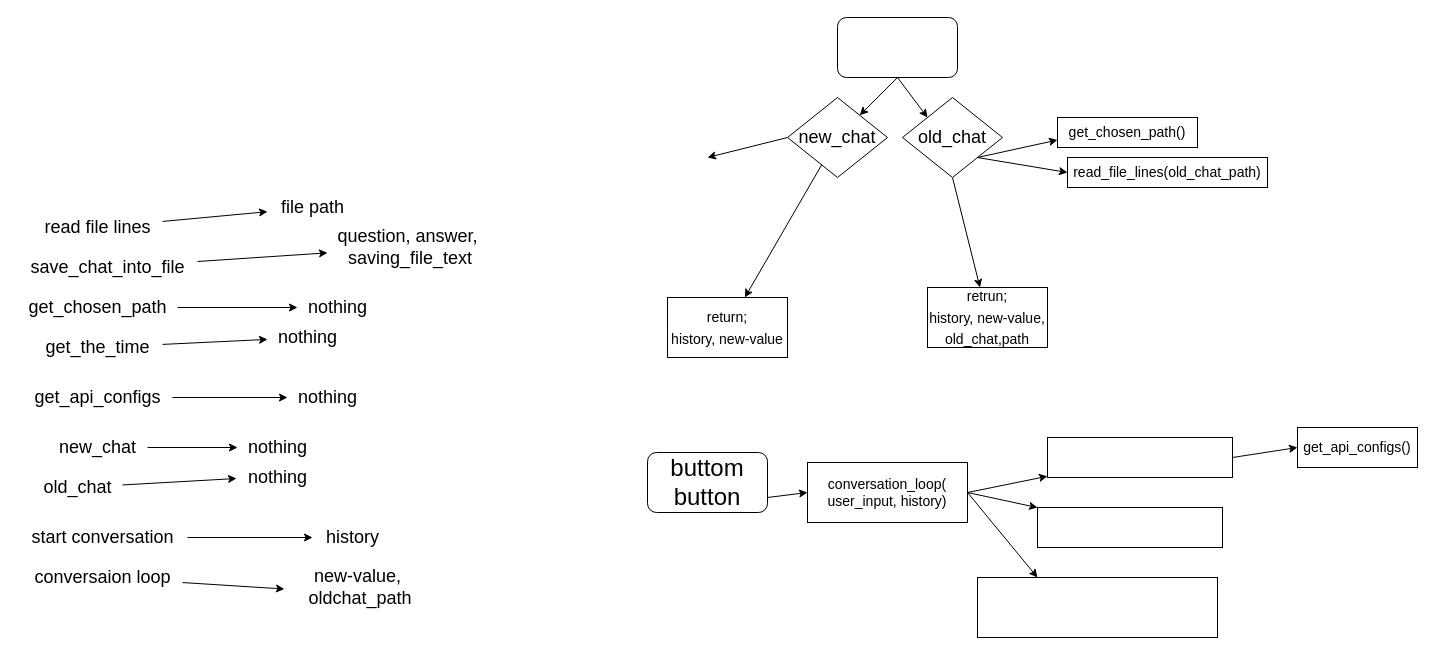
Some shapes in this 1435 by 655 pixel diagram are drawn without their labels. Each missing label, with the centre of its shape:
get_the_time(): the point at 1129,527
save_chat_into_file (question, response.text, the_new_saving_text_file): the point at 1097,607
start_converstion(history): the point at 1139,457
top button: the point at 897,47
